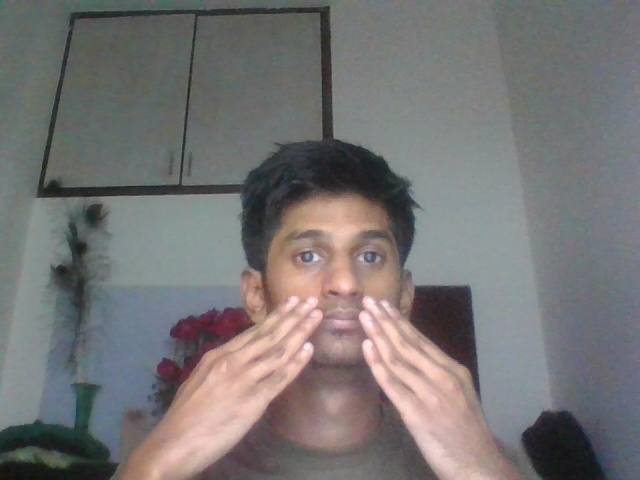Thank You: (140, 292, 540, 470)
